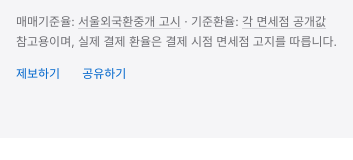
공유 시트가 없는 브라우저에서 복사가 실패하면 실패를 알린다
Click the button "공유하기": click(104, 74) [82,66,126,82]
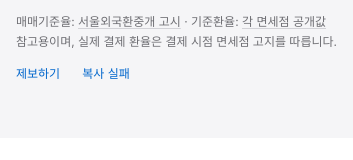
Expected: the button "복사 실패" is shown, [82,66,130,82]
